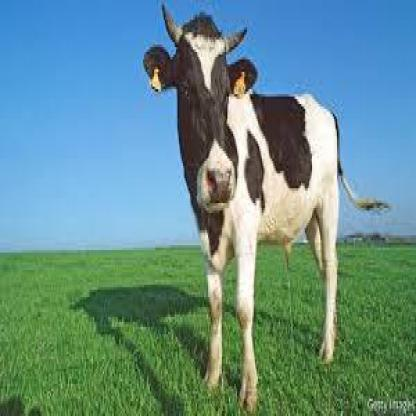cow: (142, 0, 392, 411)
